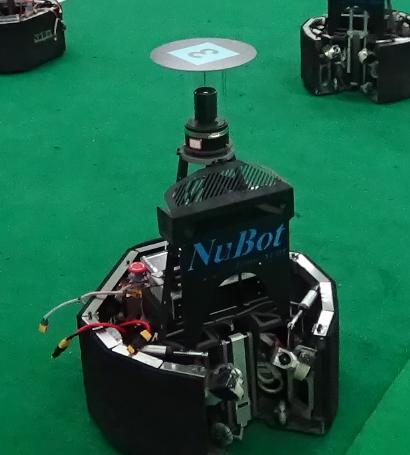robot: (69, 38, 348, 455)
